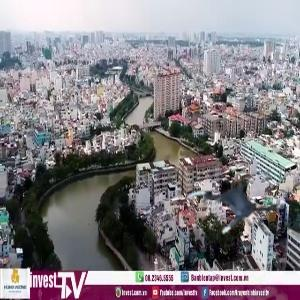drone: (187, 164, 274, 251)
